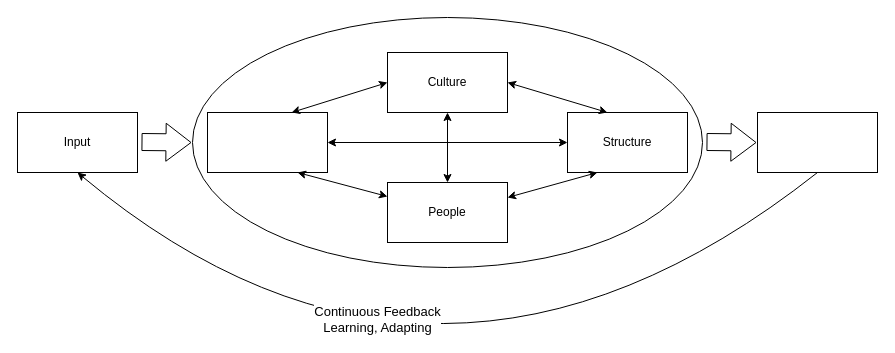
This 895x353 diagram has some shape labels left out. Here are the shapes that lost their labels. From the top down, the centre of each, then its label:
point 267,142: Work
point 817,142: Output
